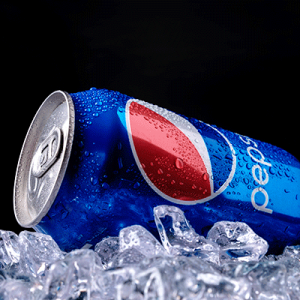pepsi: (121, 95, 234, 203)
